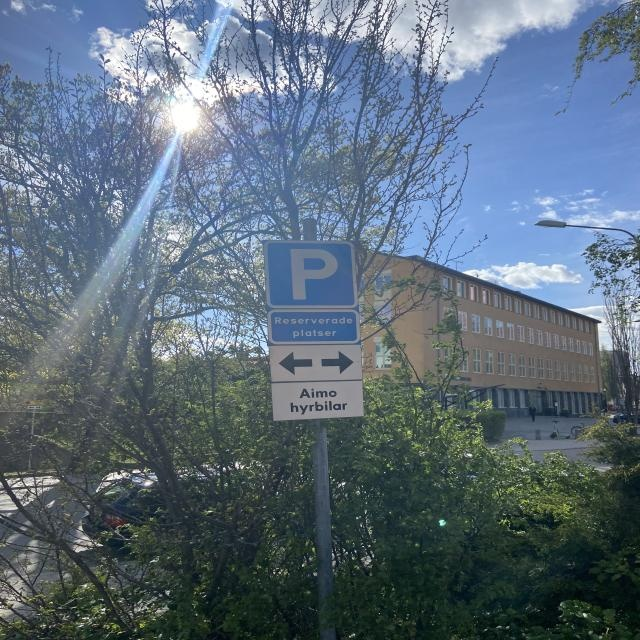P-skylt: (265, 240, 356, 306)
